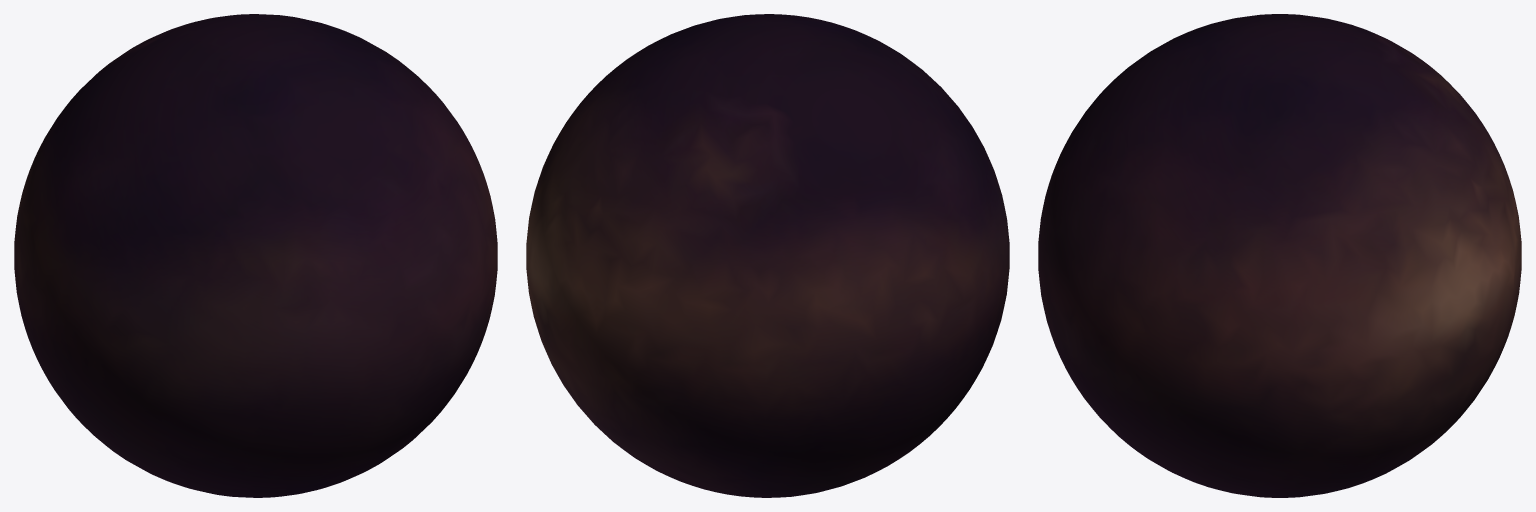
Rendered from background.fbx.
3 renders of one model, left to right at view 1: azimuth 30°, elevation 25°; view 2: azimuth 150°, elevation 25°; view 3: azimuth 270°, elevation 25°, orthographic.
Visible parts, largest first — view 1: planet_titan.001; view 2: planet_titan.001; view 3: planet_titan.001.
Boxes of the visible parts, box(x1,y1,x2,y2) form: planet_titan.001: box(14, 14, 497, 497); planet_titan.001: box(526, 14, 1009, 497); planet_titan.001: box(1038, 14, 1521, 497).
Bounding box in the file's own units: 79191 × 79248 × 79173.
